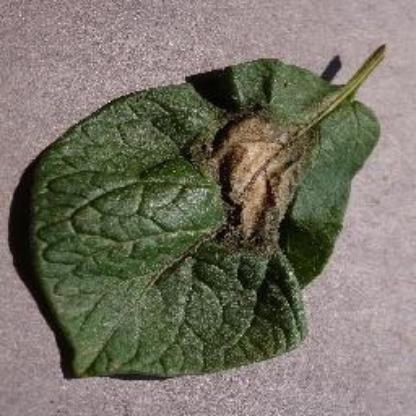Late-Blight: (25, 33, 393, 383)
